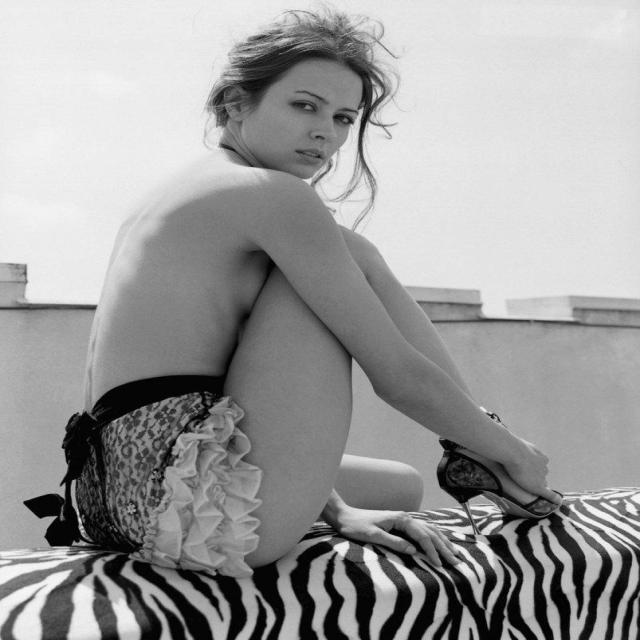no-earmuff: (205, 76, 259, 130)
